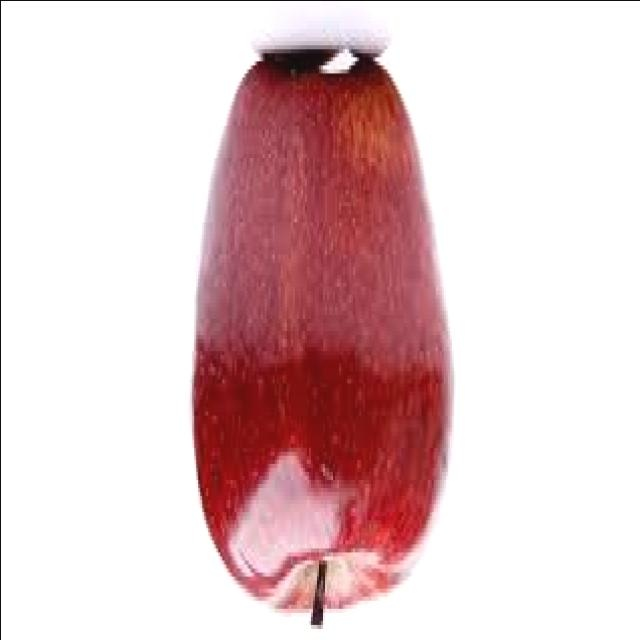agrume: (138, 0, 612, 640)
